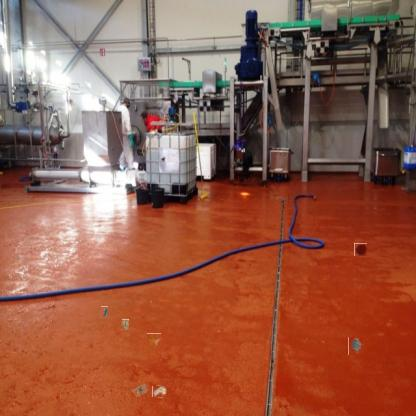dirty: (132, 381, 149, 398), (348, 338, 364, 355), (153, 385, 167, 398), (121, 319, 129, 330), (100, 306, 108, 317)
liquid: (148, 333, 161, 347), (354, 243, 367, 256)
